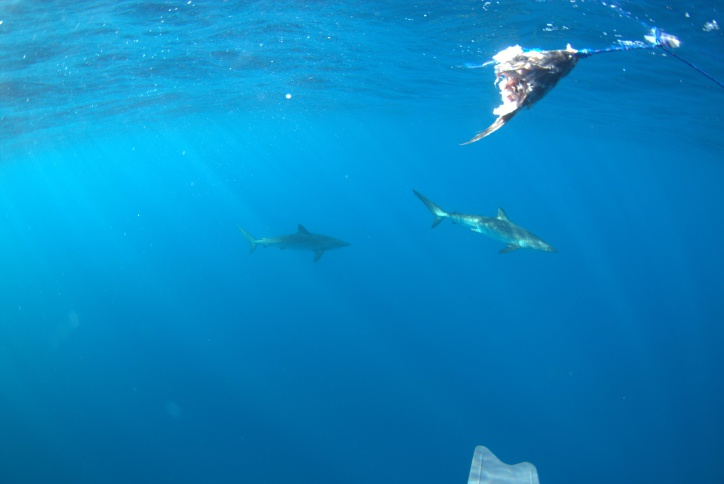Sedoso: (409, 185, 572, 272)
